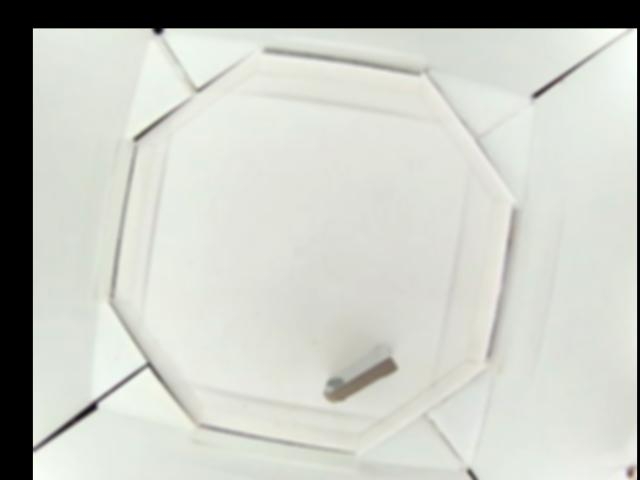China: (322, 346, 397, 401)
